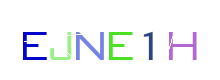1: (89, 0, 169, 80)
E: (0, 0, 80, 80), (77, 0, 157, 80)
H: (106, 0, 186, 80)
J: (26, 0, 106, 80)
N: (70, 0, 150, 80)
